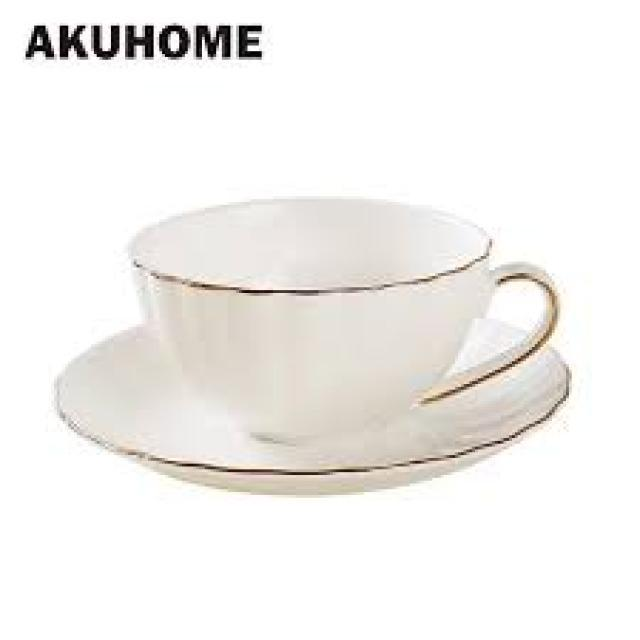taza: (114, 178, 564, 450)
